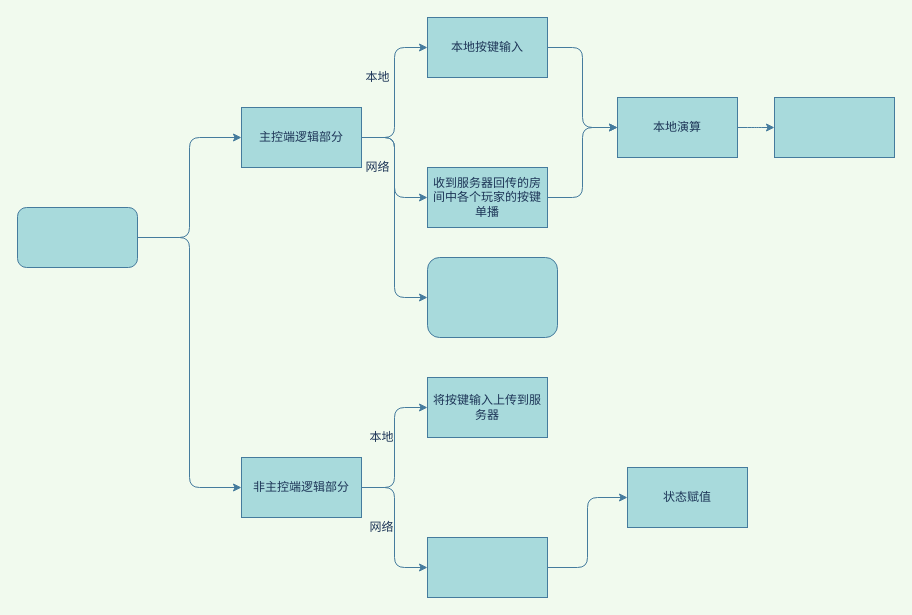
Image size: 912x615. Some labels were removed from this diagram. The shapes that lost their labels are listed below. From the top down, each one's centre as x and y in pixels, then its label:
At point (834, 127): "将演算中改变的状态回传给服务器（设置缓存存储上个状态）".
At point (77, 237): "在进入战斗场景的流程中默认以uid=1的玩家为房主（主控端）".
At point (492, 297): "后续可以根据实际效果 决定要不要在主控端 对服务器广播的位置 状态消息做一个插值".
At point (487, 567): "收到服务器广播的状态信息".
